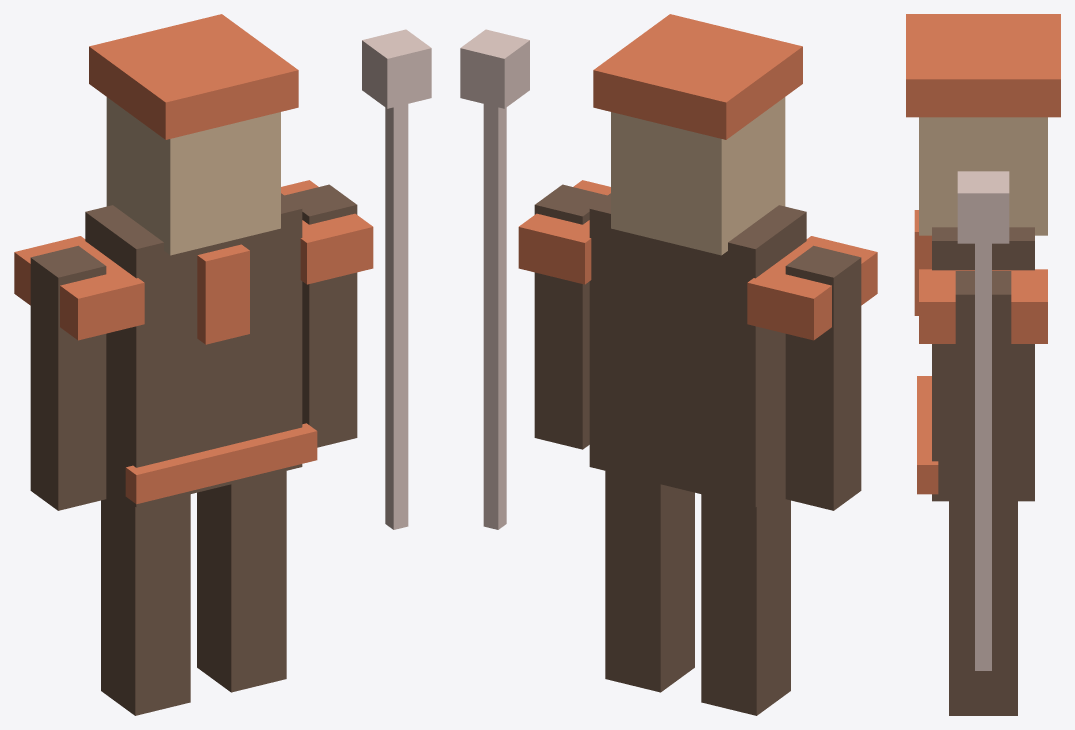
Rendered from 18_auren_deepwell_scout_at_archive.glb.
3 renders of one model, left to right at view 1: azimuth 30°, elevation 25°; view 2: azimuth 150°, elevation 25°; view 3: azimuth 270°, elevation 25°, orthographic.
Visible parts, largest first — view 1: Auren Deepwell, Scout at Archive; view 2: Auren Deepwell, Scout at Archive; view 3: Auren Deepwell, Scout at Archive.
Part boxes in pixels (x1,y1,x2,y2): Auren Deepwell, Scout at Archive: (14,14,431,715); Auren Deepwell, Scout at Archive: (460,14,877,715); Auren Deepwell, Scout at Archive: (906,14,1060,715).
Bounding box in the file's own units: 1.04 × 1.67 × 0.3706.
